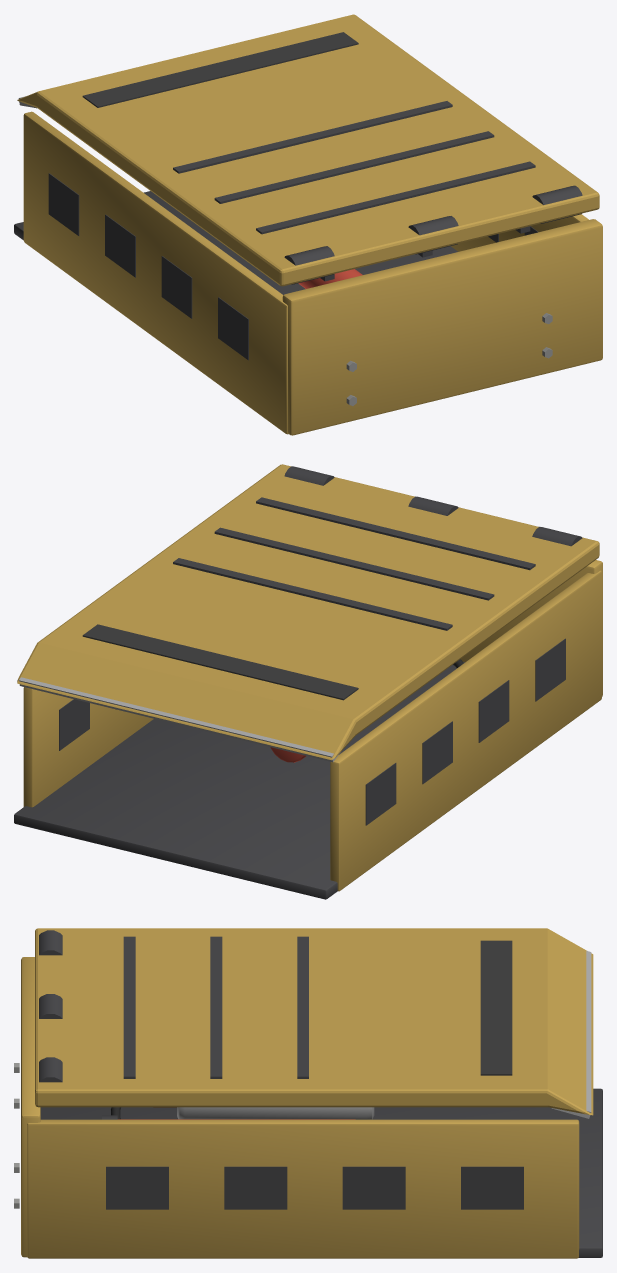
The model's file is flipper.glb.
3 renders of one model, top to bottom at view 1: azimuth 30°, elevation 25°; view 2: azimuth 150°, elevation 25°; view 3: azimuth 270°, elevation 25°, orthographic. The views are drawn at different scales.
Parts seen in each view (by area): view 1: Part, Flap; view 2: Flap, Part; view 3: Flap, Part.
Part boxes in pixels (x1,y1,x2,y2): Part: (14,111,602,435); Flap: (17,14,599,286); Flap: (17,464,599,762); Part: (14,466,602,899); Flap: (35,928,593,1118); Part: (14,930,602,1258).
Size of the model in its own units: 0.98 by 0.489 by 1.49.
